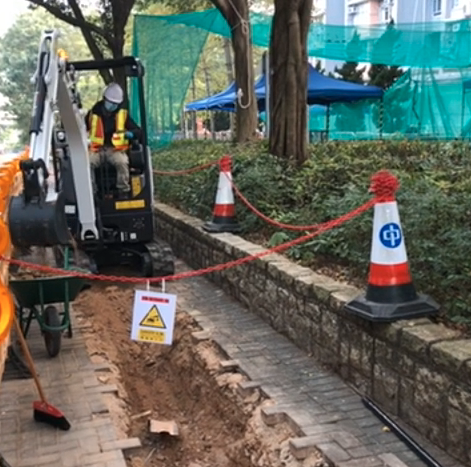Hard Hat: (102, 84, 124, 114)
Person: (86, 84, 132, 202)
Vest: (87, 103, 128, 152)
